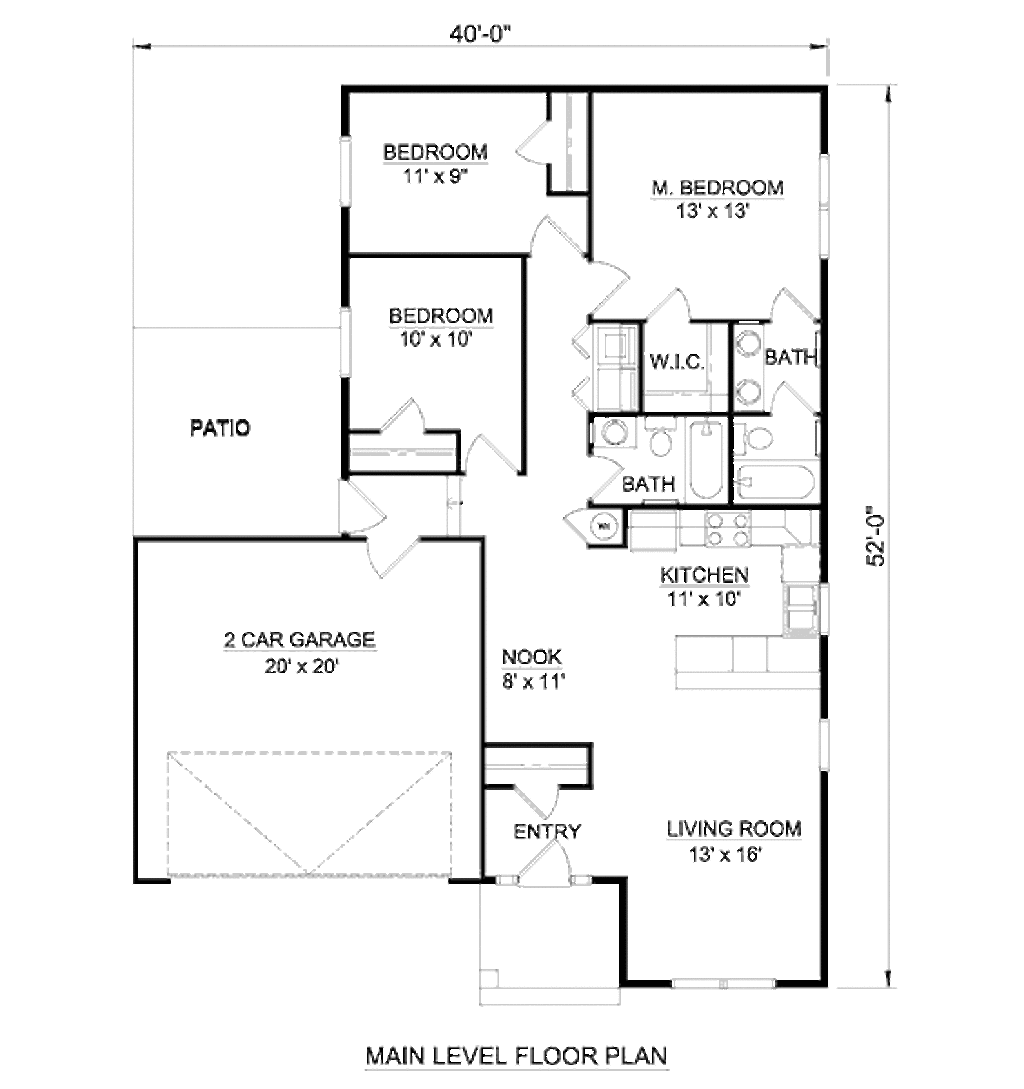door: (634, 280, 709, 335), (355, 531, 423, 581), (332, 475, 389, 533), (518, 839, 580, 891), (506, 109, 560, 168), (454, 427, 519, 473), (756, 280, 823, 323), (586, 259, 632, 317), (531, 215, 586, 263), (553, 497, 607, 545), (515, 780, 570, 823), (584, 449, 628, 498), (768, 378, 814, 418)
large_sink: (729, 417, 782, 453), (644, 410, 679, 460)
small_sink: (735, 323, 770, 409), (592, 417, 635, 450)
tub: (726, 455, 831, 514), (690, 418, 723, 506)
window: (328, 133, 371, 210), (665, 967, 779, 991), (815, 706, 842, 781), (329, 306, 353, 386), (818, 155, 835, 261), (810, 582, 838, 640)
